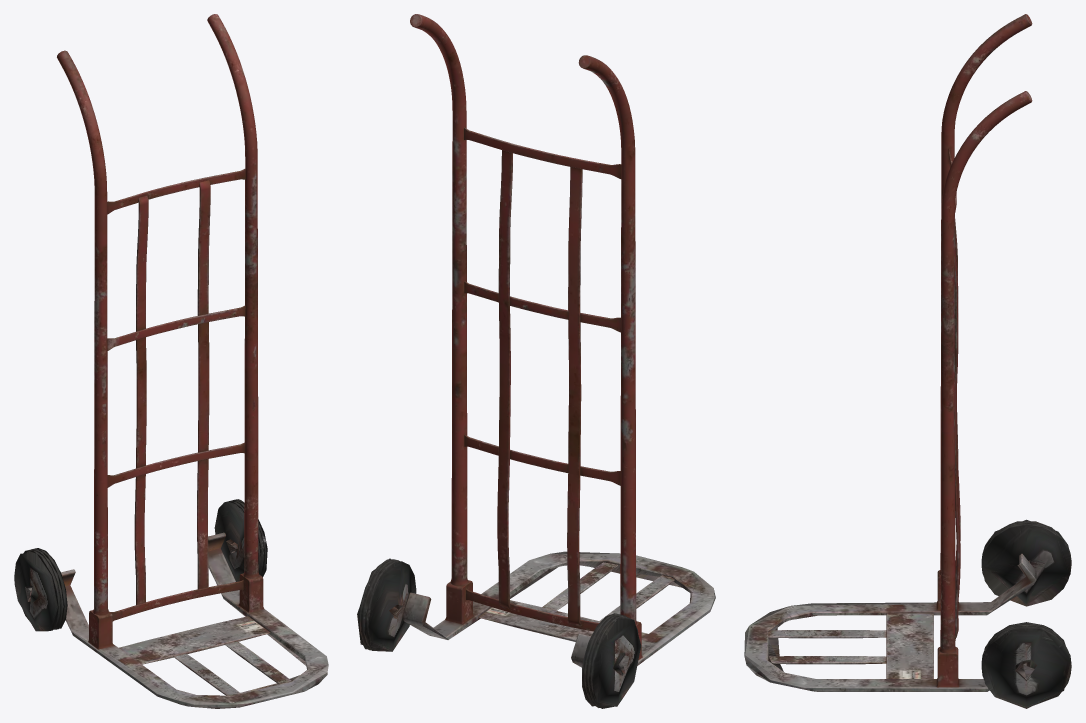
The model's file is hand_truck_lod1.glb.
The picture shows the model from 3 angles, left to right: view 1: azimuth 30°, elevation 25°; view 2: azimuth 150°, elevation 25°; view 3: azimuth 270°, elevation 25°; orthographic projection. The views are drawn at different scales.
Visible parts, largest first — view 1: hand_truck; view 2: hand_truck; view 3: hand_truck.
Part boxes in pixels (left/top/right/bottom): hand_truck: left=14, top=14, right=328, bottom=708; hand_truck: left=357, top=14, right=715, bottom=708; hand_truck: left=744, top=14, right=1071, bottom=708.
Size of the model in its own units: 0.5789 by 1.4 by 0.6922.
1 material, 1 textured.
